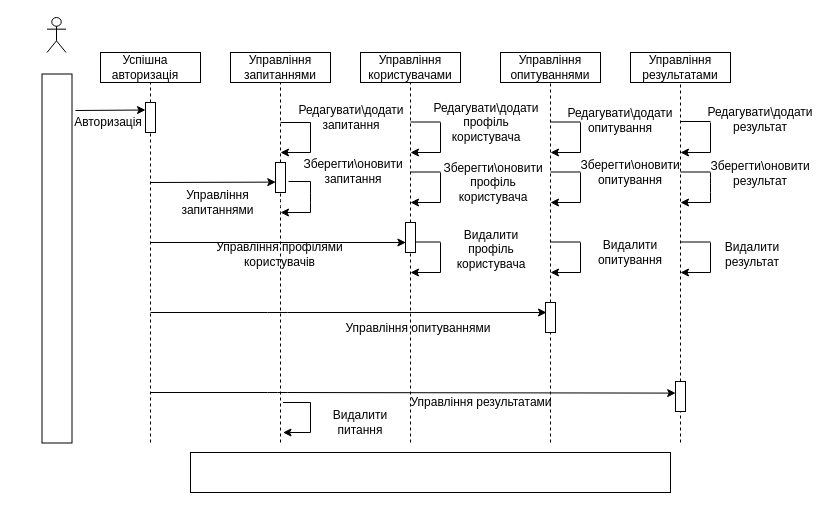
This 830x510 diagram has some shape labels left out. Each missing label, with the centre of its shape:
Sequence Diagram: point 430,472
Адміністратор: point 56,34
